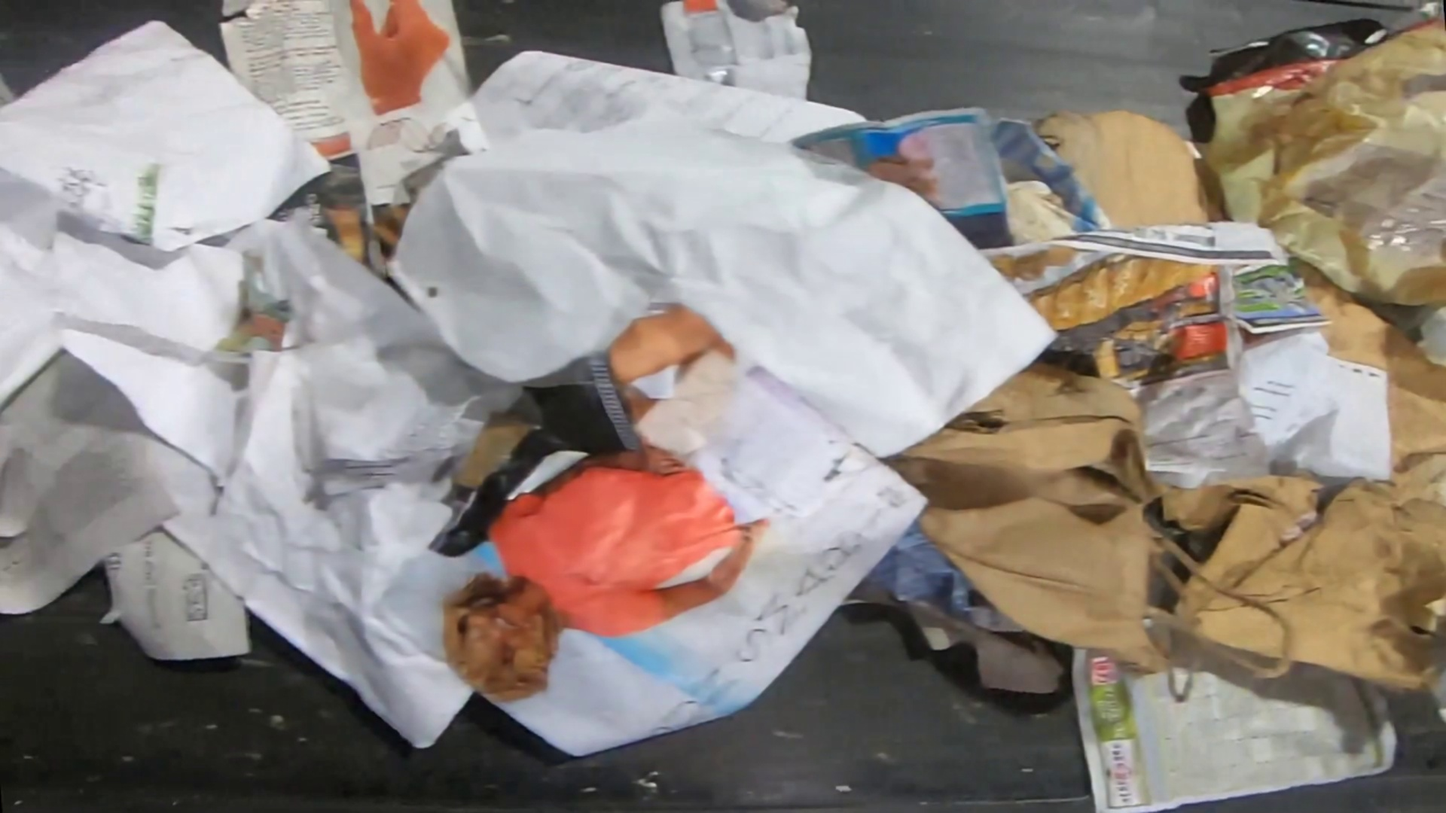cardboard: (1158, 253, 1446, 695), (1026, 108, 1229, 231)
